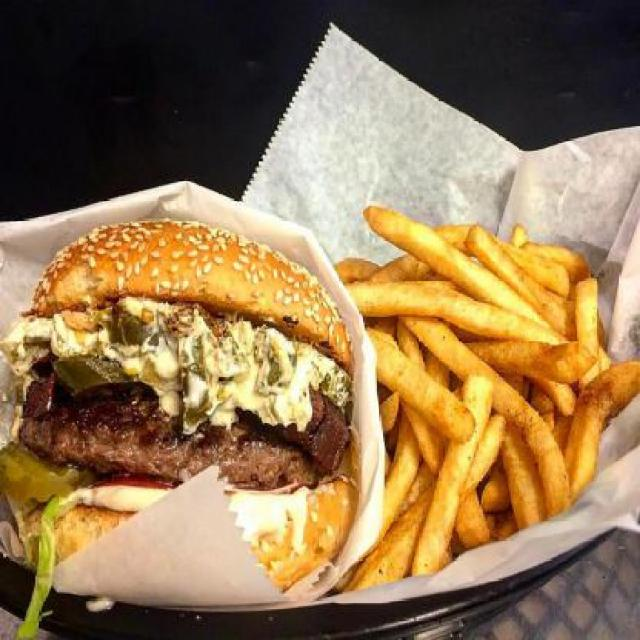french fries: (335, 196, 639, 602)
hamburger: (0, 208, 353, 589)
